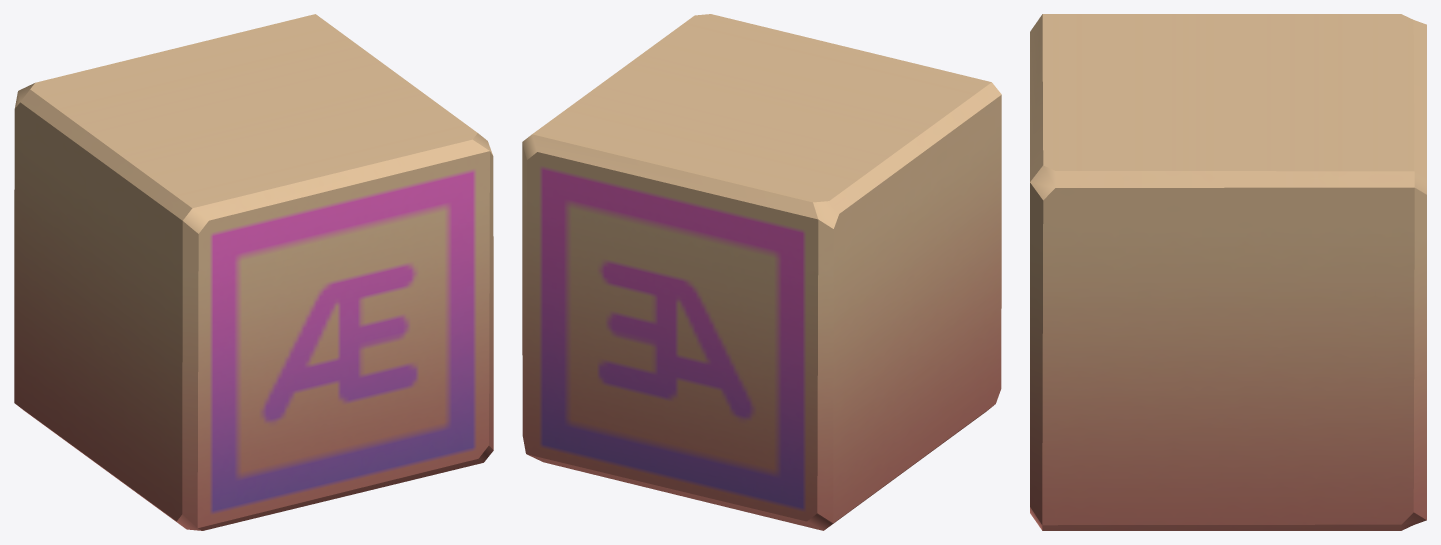
File: KIND-AEcube.fbx
3 views of the same model, side by side, from view 1: azimuth 30°, elevation 25°; view 2: azimuth 150°, elevation 25°; view 3: azimuth 270°, elevation 25° (orthographic). The views are drawn at different scales.
Parts seen in each view (by area): view 1: polySurface47; view 2: polySurface47; view 3: polySurface47.
Boxes of the visible parts, x1,y1,x2,y2 form: polySurface47: (14, 14, 493, 530); polySurface47: (522, 14, 1001, 530); polySurface47: (1030, 14, 1426, 530).
Bounding box in the file's own units: 0.5253 × 0.5253 × 0.5253.
Materials: 1 (1 with a texture image).
